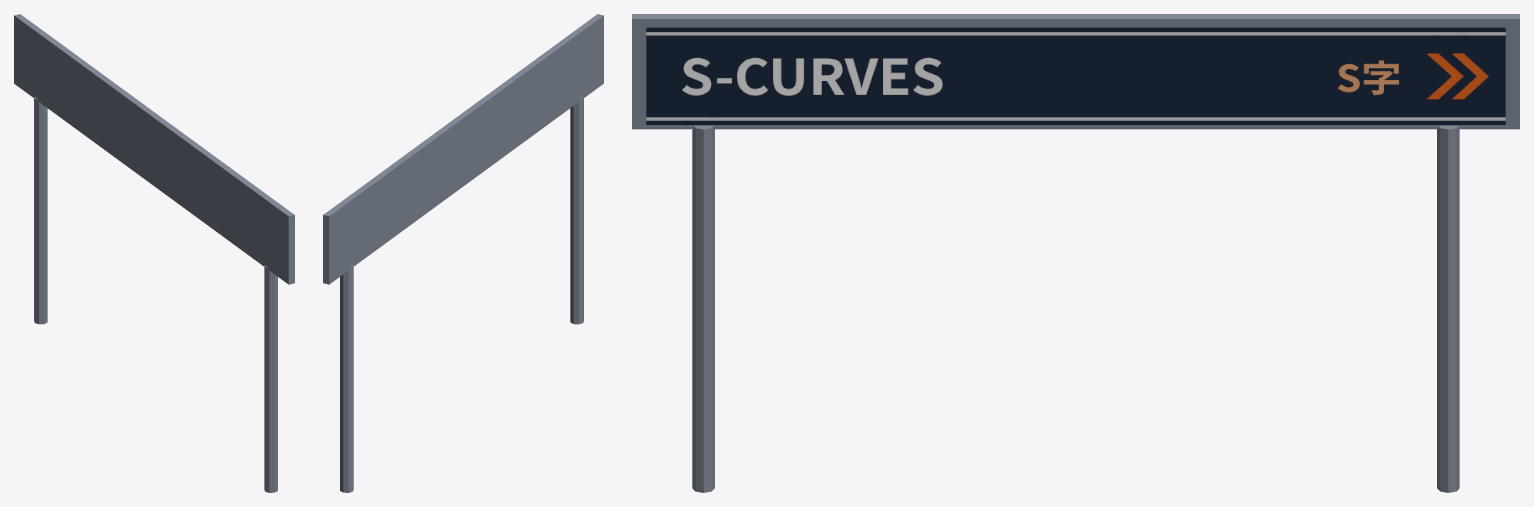
Rendered from corner_sign_s_curves.glb.
3 views of the same model, side by side, from view 1: azimuth 30°, elevation 25°; view 2: azimuth 150°, elevation 25°; view 3: azimuth 270°, elevation 25° (orthographic). The views are drawn at different scales.
Visible parts, largest first — view 1: cornersign; view 2: cornersign; view 3: cornersign.
Boxes of the visible parts, x1,y1,x2,y2 form: cornersign: (14, 14, 294, 492); cornersign: (323, 14, 603, 492); cornersign: (632, 14, 1519, 492).
Size of the model in its own units: 0.16 by 3.62 by 6.2.
2 materials, 1 textured.
